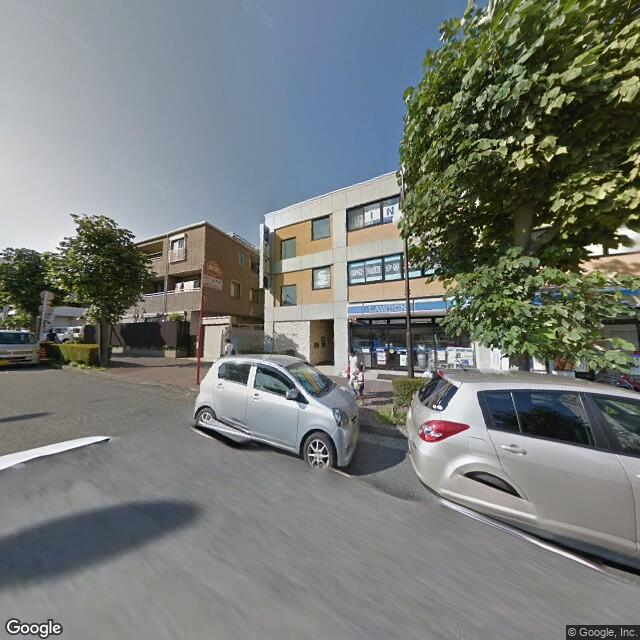lawson: (347, 291, 453, 319)
